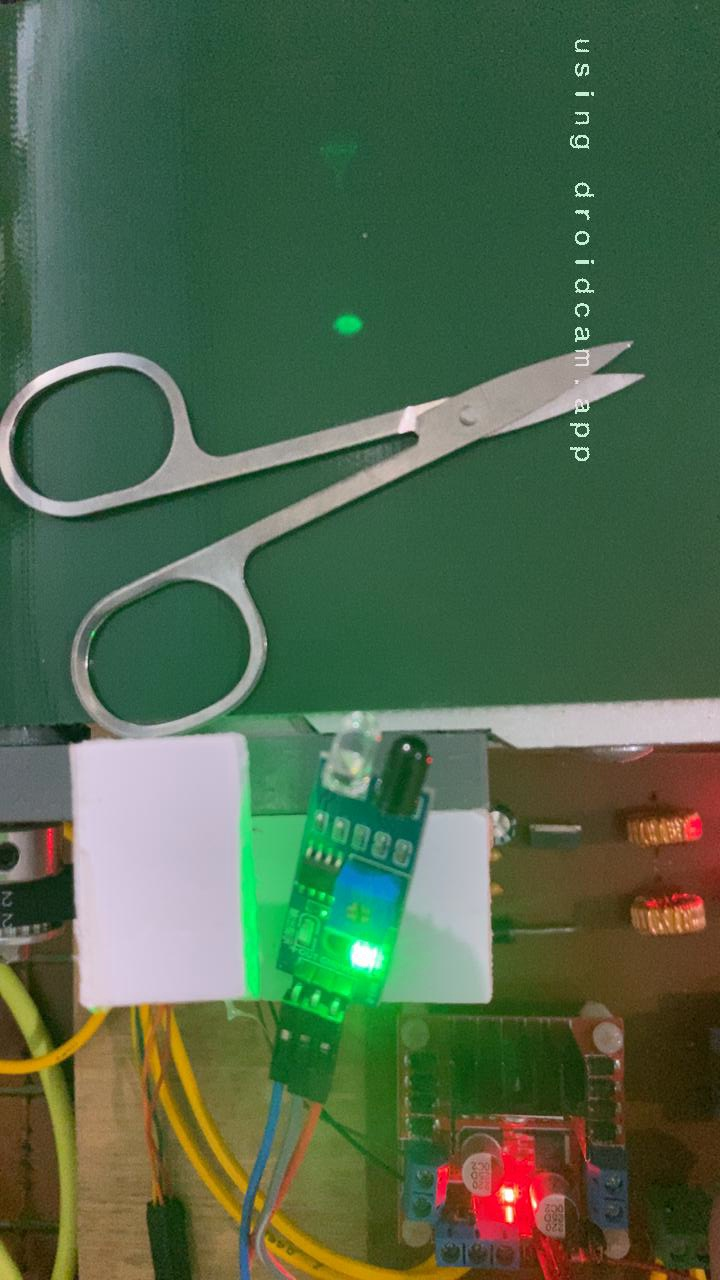scissor: (0, 334, 653, 712)
